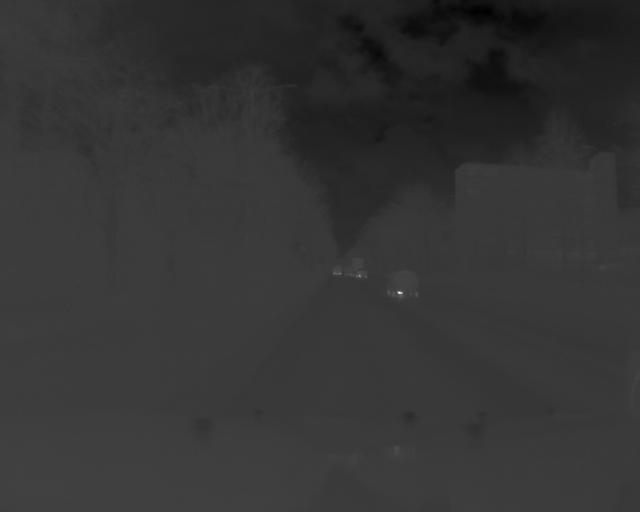car: (382, 270, 421, 299), (353, 266, 370, 280), (330, 261, 343, 278)
